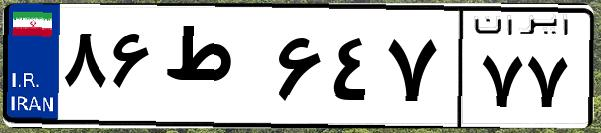4: (330, 28, 385, 110)
6: (270, 28, 330, 110), (110, 28, 158, 98)
7: (385, 28, 445, 110), (475, 38, 525, 113), (525, 38, 570, 115)
8: (57, 26, 110, 100)
ط: (158, 20, 270, 120)
